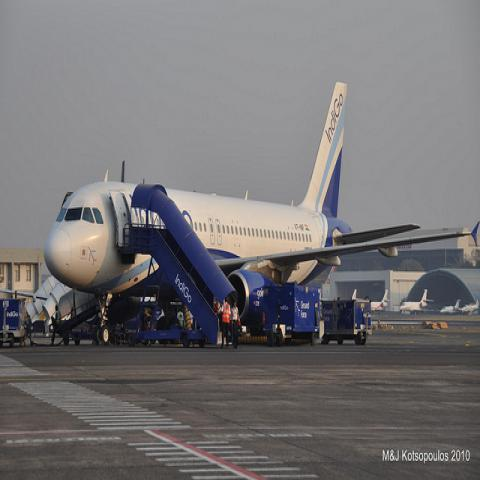truck: (249, 283, 321, 346), (320, 290, 373, 347), (0, 298, 24, 349)
